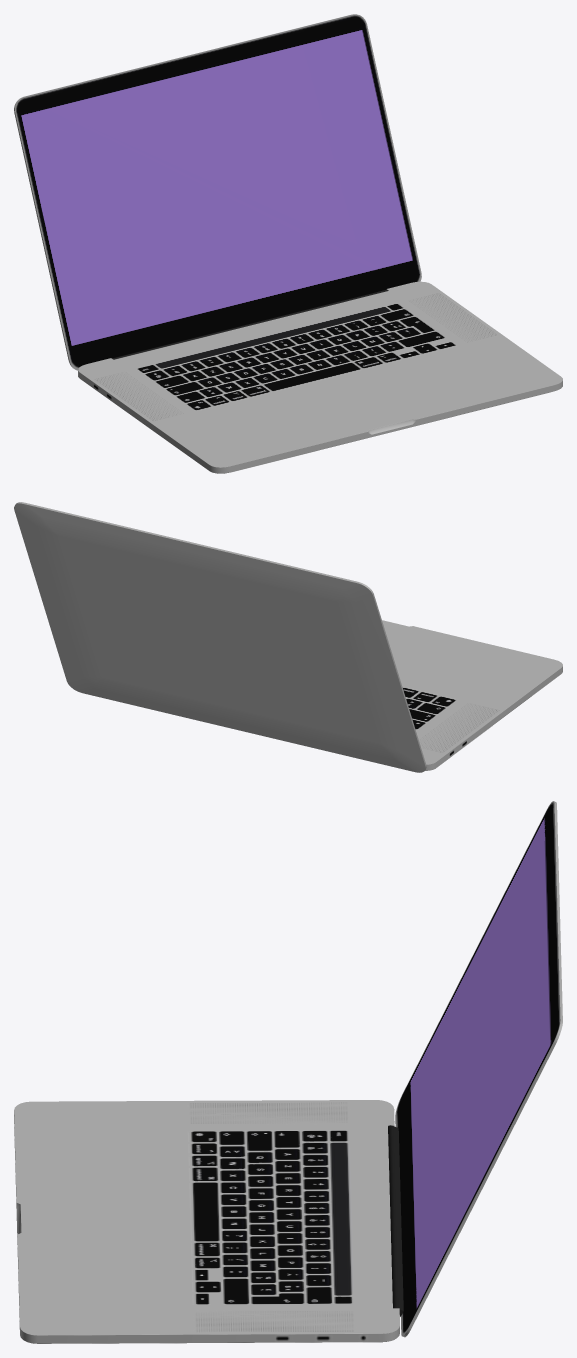
File: LaptopD.fbx
The picture shows the model from 3 angles, top to bottom: view 1: azimuth 30°, elevation 25°; view 2: azimuth 150°, elevation 25°; view 3: azimuth 270°, elevation 25°; orthographic projection. The views are drawn at different scales.
Visible parts, largest first — view 1: LaptopD3; view 2: LaptopD3; view 3: LaptopD3.
Boxes of the visible parts, <box> form: LaptopD3: <box>14,14,562,473</box>; LaptopD3: <box>14,502,562,772</box>; LaptopD3: <box>14,801,562,1343</box>.
Size of the model in its own units: 36.18 by 22.73 by 35.51.
